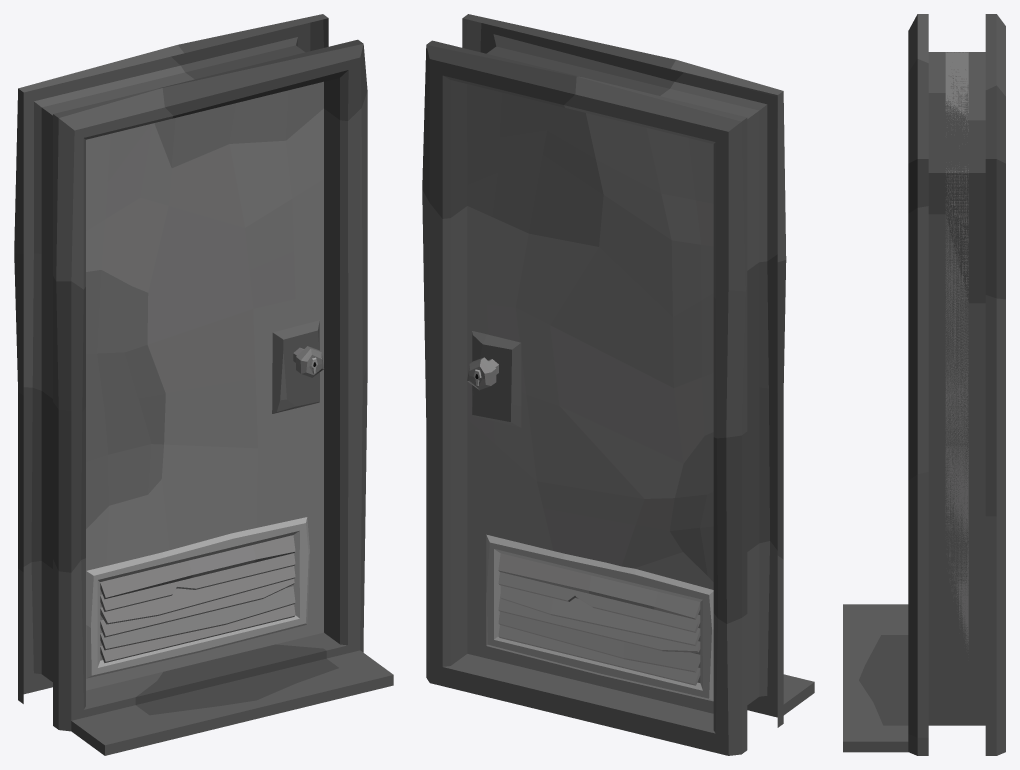
Rendered from SM_Door_B.fbx.
3 views of the same model, side by side, from view 1: azimuth 30°, elevation 25°; view 2: azimuth 150°, elevation 25°; view 3: azimuth 270°, elevation 25° (orthographic). The views are drawn at different scales.
Parts seen in each view (by area): view 1: SM_DoorB, SM_Door_B; view 2: SM_DoorB, SM_Door_B; view 3: SM_Door_B, SM_DoorB.
Boxes of the visible parts, <box> form: SM_DoorB: <box>86,81,323,690</box>; SM_Door_B: <box>14,14,393,755</box>; SM_DoorB: <box>467,84,713,713</box>; SM_Door_B: <box>422,14,814,755</box>; SM_Door_B: <box>843,14,1005,755</box>; SM_DoorB: <box>945,52,968,654</box>.
Bounding box in the file's own units: 123 × 232 × 56.81.
